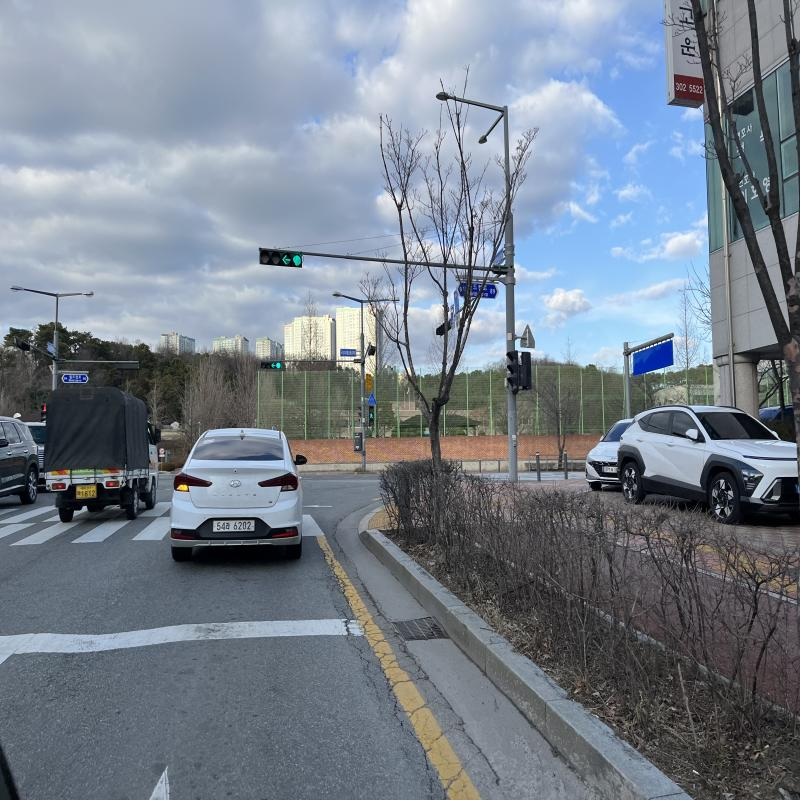green: (292, 254, 302, 267), (276, 363, 281, 369)
left: (281, 253, 292, 266), (270, 362, 276, 369)
